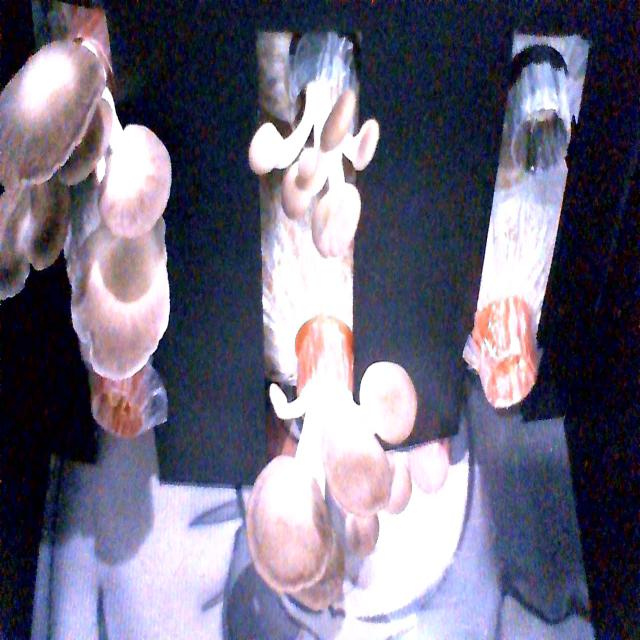big: (0, 29, 178, 379), (246, 322, 423, 623)
nfound: (94, 349, 176, 449), (506, 82, 574, 192), (482, 330, 542, 418)
small: (253, 79, 381, 245)
